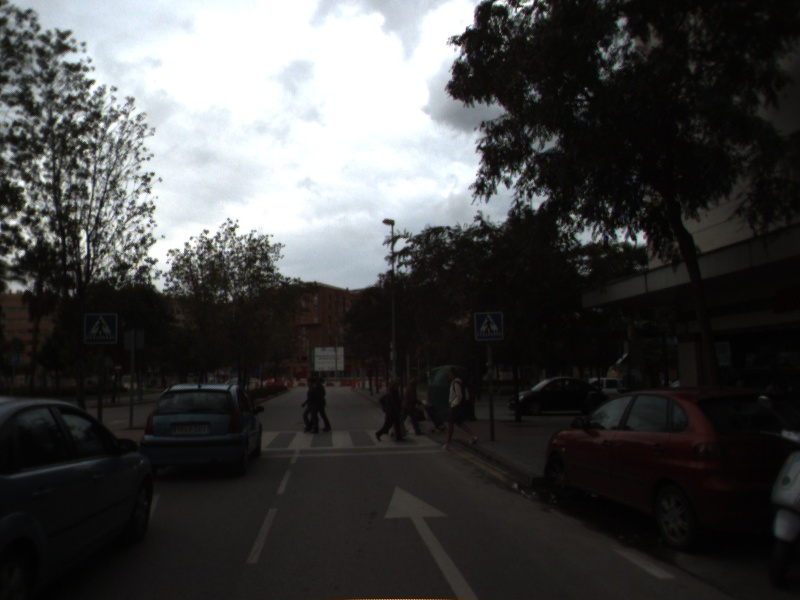STRAIGHT: (381, 483, 479, 600)
